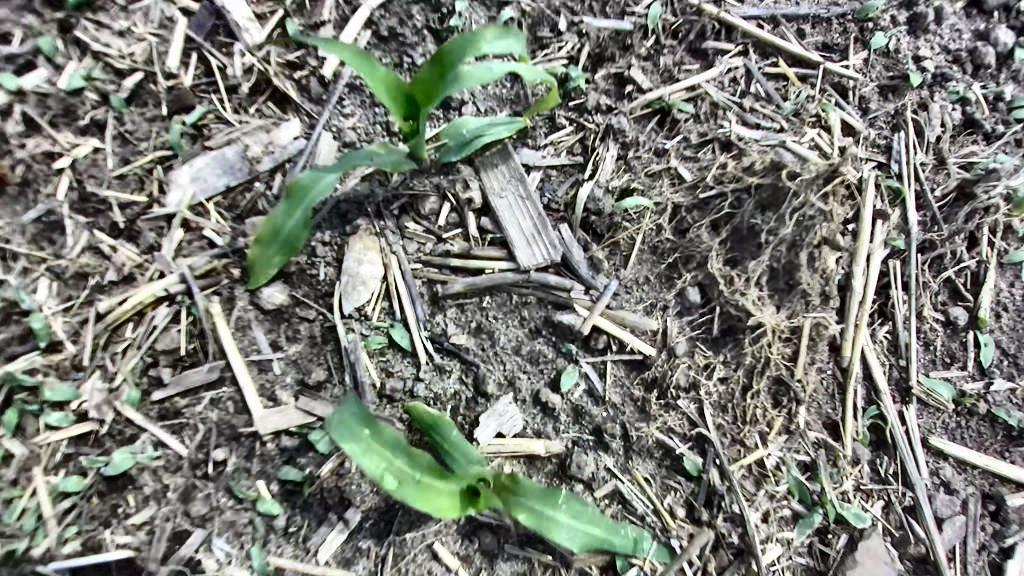BroWeed: (156, 89, 212, 163), (7, 278, 60, 351), (0, 369, 83, 409), (913, 365, 976, 416), (365, 307, 426, 359), (220, 478, 289, 522), (77, 437, 153, 471), (769, 459, 817, 511), (60, 54, 120, 93), (97, 445, 161, 479), (827, 491, 876, 535), (783, 503, 830, 548), (869, 159, 911, 209), (49, 510, 101, 550), (0, 389, 42, 437), (44, 467, 100, 502), (863, 17, 911, 52), (115, 363, 147, 413), (974, 326, 1003, 381), (273, 461, 314, 499), (675, 446, 714, 483), (34, 30, 68, 72), (602, 192, 655, 216), (815, 489, 846, 530), (357, 324, 392, 358), (777, 86, 814, 118), (896, 51, 927, 88), (245, 537, 273, 576), (553, 361, 585, 395), (858, 402, 888, 436), (18, 498, 43, 538), (776, 446, 804, 481), (0, 534, 33, 563), (999, 245, 1024, 281), (564, 62, 593, 93), (965, 154, 1000, 179), (940, 83, 978, 106), (24, 520, 50, 553), (803, 472, 828, 506), (561, 69, 594, 93), (983, 149, 1011, 176), (104, 90, 133, 116), (33, 410, 77, 427), (0, 482, 24, 513), (917, 56, 940, 86), (885, 230, 911, 256), (649, 99, 696, 113), (494, 3, 522, 25), (1, 495, 21, 525), (813, 92, 837, 117), (63, 443, 107, 456), (559, 339, 582, 361), (283, 12, 302, 36), (0, 87, 23, 106), (1010, 185, 1024, 216), (613, 550, 631, 574), (0, 72, 21, 92), (975, 312, 994, 331), (824, 461, 842, 481), (858, 426, 874, 448), (886, 32, 899, 57), (48, 491, 67, 508), (64, 0, 92, 10), (1011, 44, 1024, 64), (187, 298, 199, 318), (174, 293, 190, 308), (1010, 64, 1024, 81), (547, 65, 568, 76), (288, 426, 314, 434), (809, 473, 824, 486), (832, 445, 842, 461), (993, 415, 1006, 426), (13, 386, 30, 392)
Maize: (307, 362, 681, 576)
